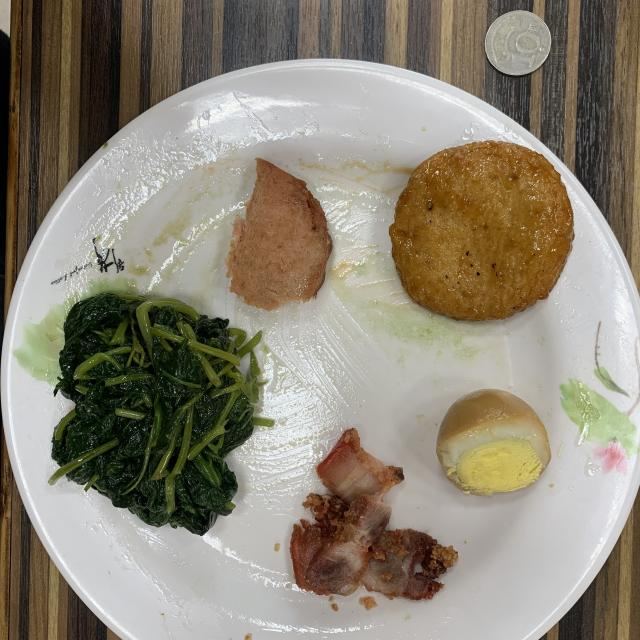Spam: (226, 159, 332, 310)
coin: (485, 10, 551, 75)
fish cake: (389, 141, 574, 321)
red grilled pork: (290, 429, 458, 600)
soy egg: (436, 389, 551, 495)
sweet potato leaves: (50, 294, 270, 534)
